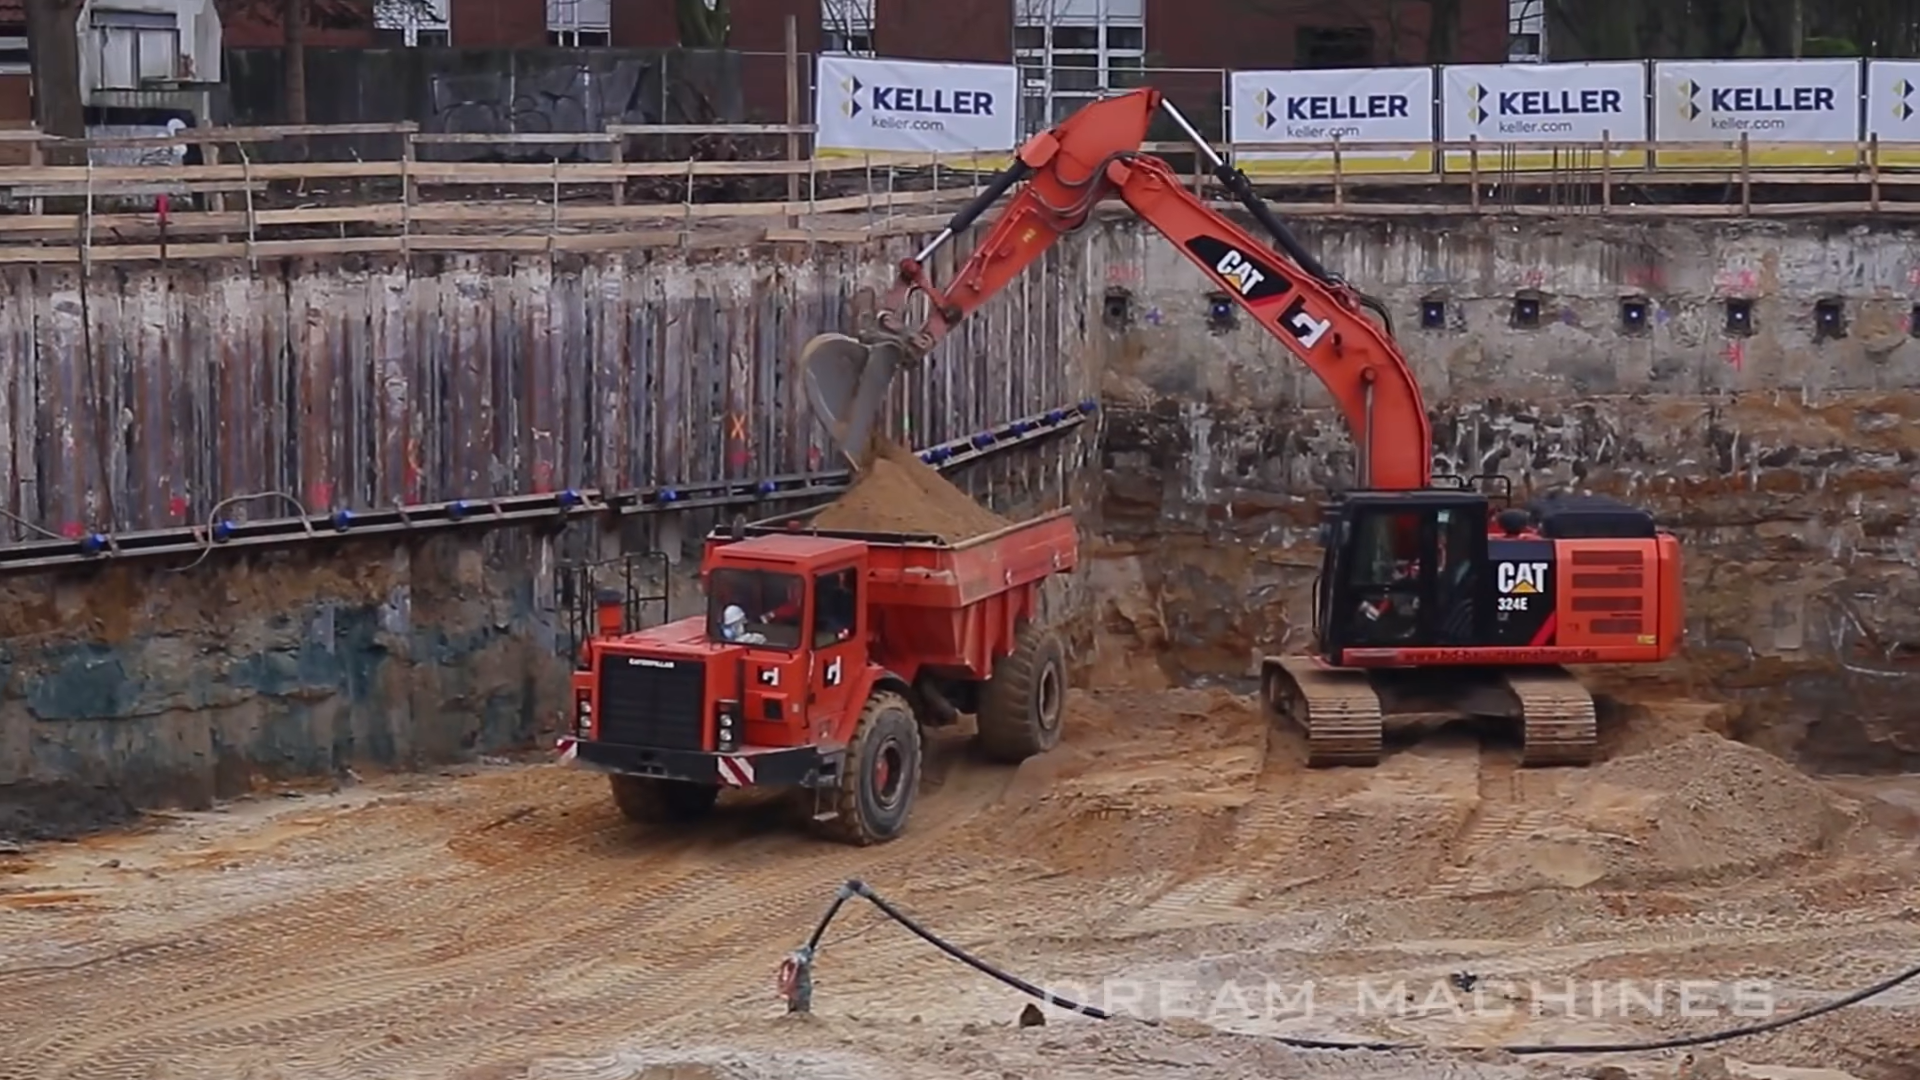excavator: (782, 75, 1683, 774)
